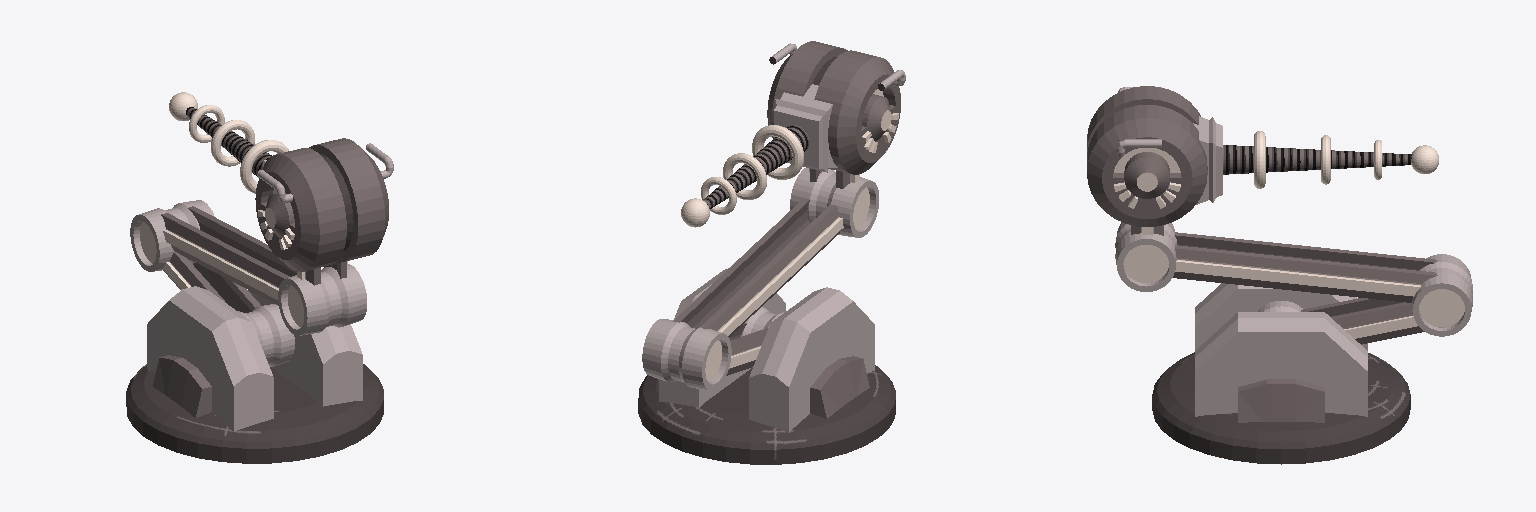
3 views of the same model, side by side, from view 1: azimuth 30°, elevation 25°; view 2: azimuth 150°, elevation 25°; view 3: azimuth 270°, elevation 25° (orthographic).
Visible parts, largest first — view 1: Cylinder.005_Cylinder.008; view 2: Cylinder.005_Cylinder.008; view 3: Cylinder.005_Cylinder.008.
Part boxes in pixels (x1,y1,x2,y2): Cylinder.005_Cylinder.008: (126,92,393,463); Cylinder.005_Cylinder.008: (638,41,905,464); Cylinder.005_Cylinder.008: (1087,86,1472,464).
Bounding box in the file's own units: 3 × 3.95 × 4.49.
1 materials, 1 textured.